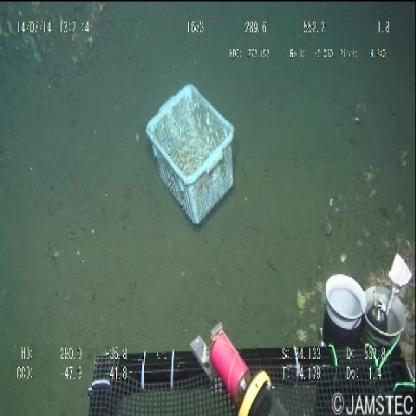Rov: (78, 243, 416, 416)
Rác: (135, 72, 244, 236)
